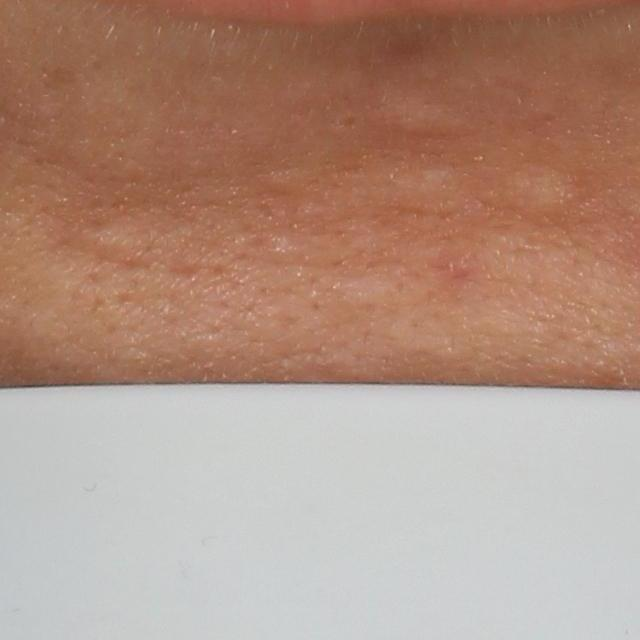hypertrophic_scar: (350, 161, 482, 210), (369, 93, 487, 142), (508, 160, 590, 216), (73, 224, 150, 266), (331, 273, 402, 311)
